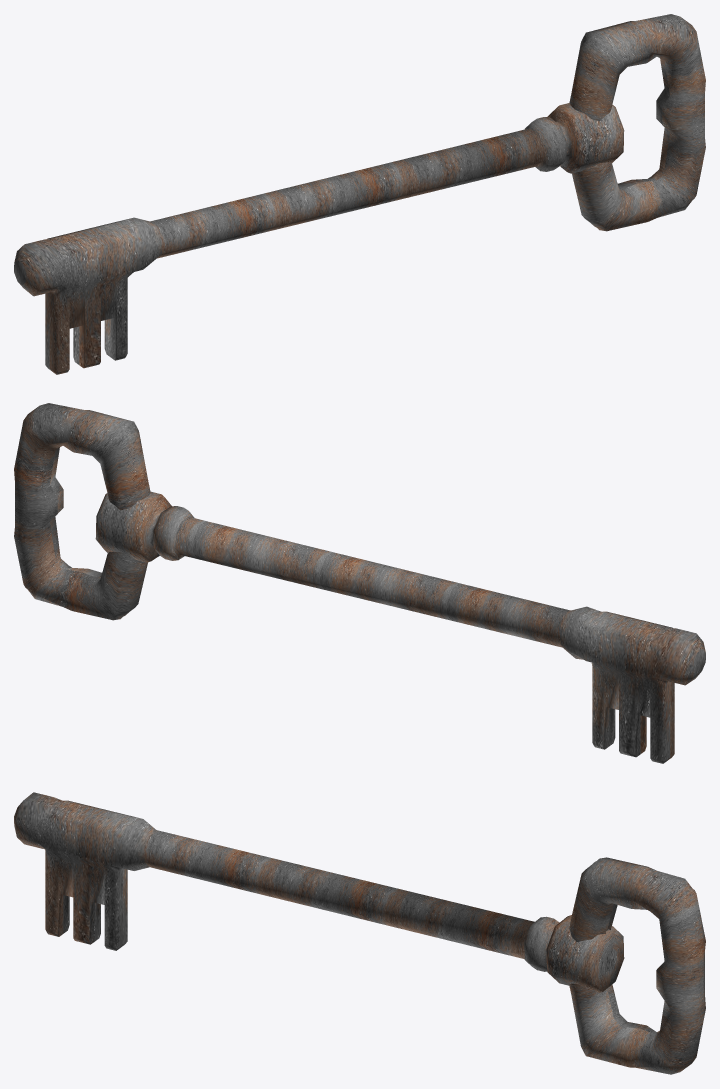
The model's file is key.fbx.
3 views of the same model, one above another, from view 1: azimuth 30°, elevation 25°; view 2: azimuth 150°, elevation 25°; view 3: azimuth 330°, elevation 25° (orthographic).
Visible parts, largest first — view 1: Key; view 2: Key; view 3: Key.
Boxes of the visible parts, bbox=[...] form: Key: bbox=[14, 14, 705, 374]; Key: bbox=[14, 403, 705, 763]; Key: bbox=[14, 792, 705, 1074].
Bounding box in the file's own units: 1.27 × 0.3678 × 0.1065.
Materials: 1 (1 with a texture image).
